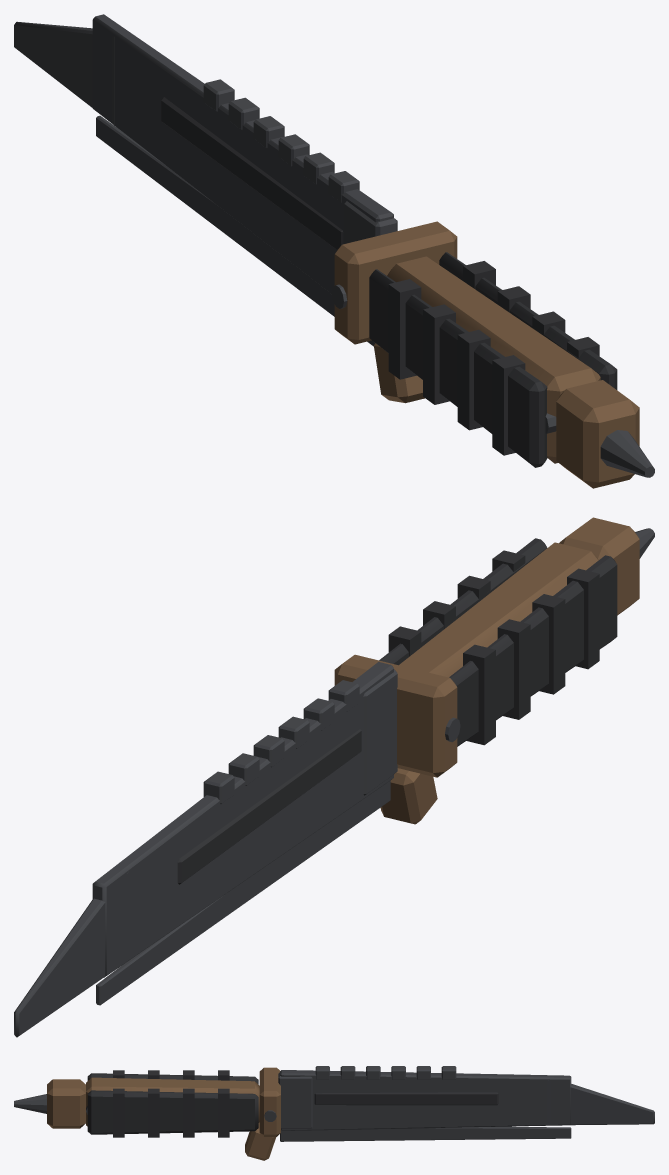
The model's file is knife.glb.
3 renders of one model, top to bottom at view 1: azimuth 30°, elevation 25°; view 2: azimuth 150°, elevation 25°; view 3: azimuth 270°, elevation 25°, orthographic. The views are drawn at different scales.
Parts seen in each view (by area): view 1: KNIFE_Steel, KNIFE_Polymer, KNIFE_Bronze; view 2: KNIFE_Steel, KNIFE_Polymer, KNIFE_Bronze; view 3: KNIFE_Steel, KNIFE_Polymer, KNIFE_Bronze.
Boxes of the visible parts, <box> form: KNIFE_Steel: <box>14,14,654,477</box>; KNIFE_Polymer: <box>161,97,617,467</box>; KNIFE_Bronze: <box>334,221,639,488</box>; KNIFE_Steel: <box>14,528,654,1037</box>; KNIFE_Polymer: <box>177,538,617,884</box>; KNIFE_Bronze: <box>334,517,639,824</box>; KNIFE_Steel: <box>14,1066,654,1141</box>; KNIFE_Polymer: <box>87,1070,498,1137</box>; KNIFE_Bronze: <box>47,1067,280,1160</box>.
Bounding box in the file's own units: 0.035 × 0.051 × 0.33.
